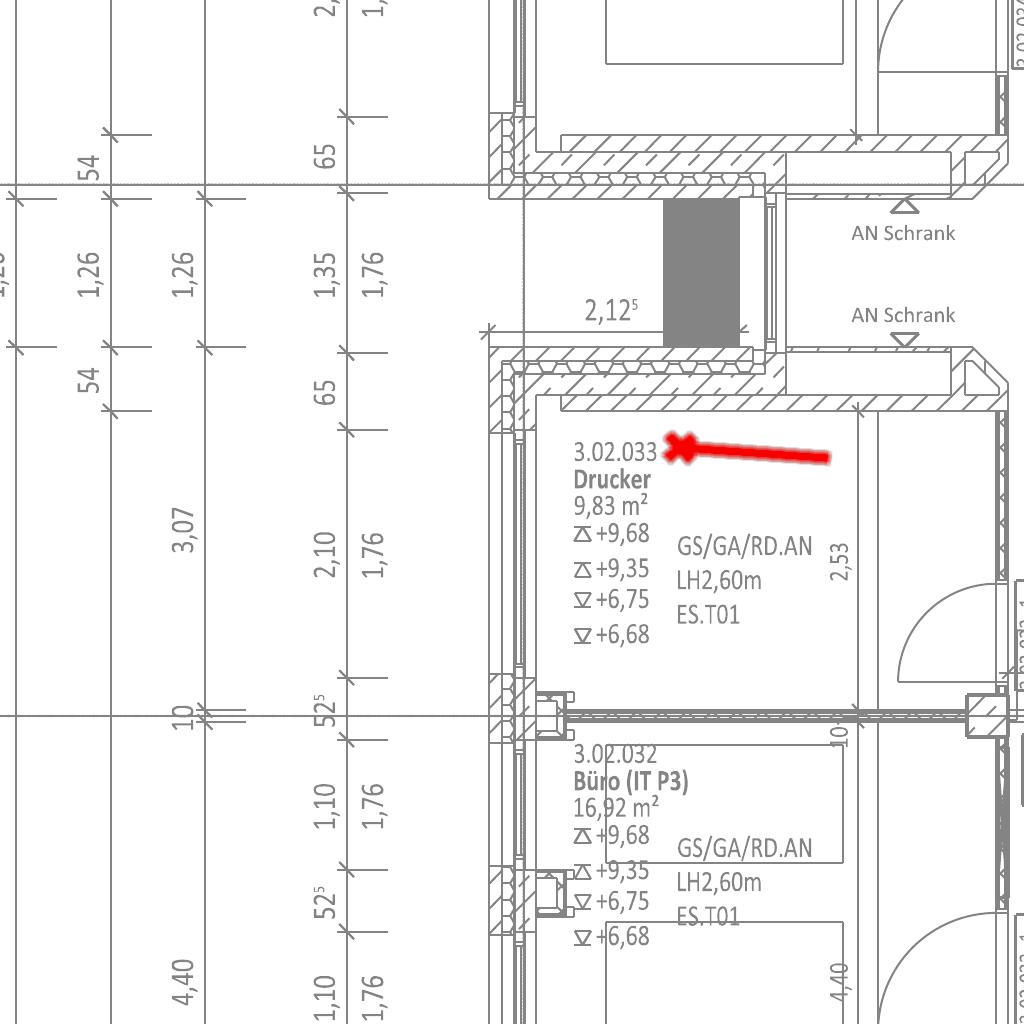ASR_Ansaugoeffnung: (658, 420, 838, 480)
